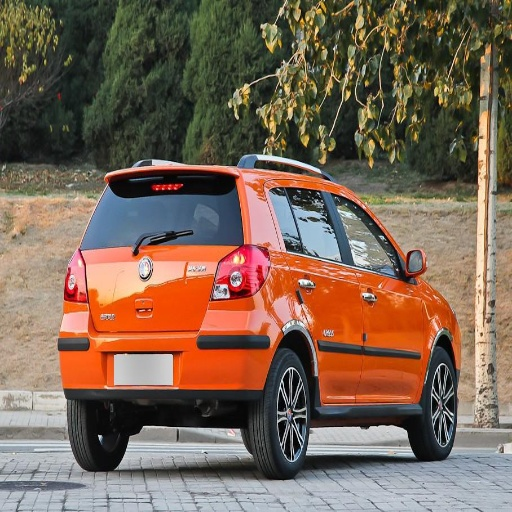back_bumper: (60, 296, 278, 400)
back_right_door: (268, 179, 363, 410)
trunk: (81, 240, 237, 350)
